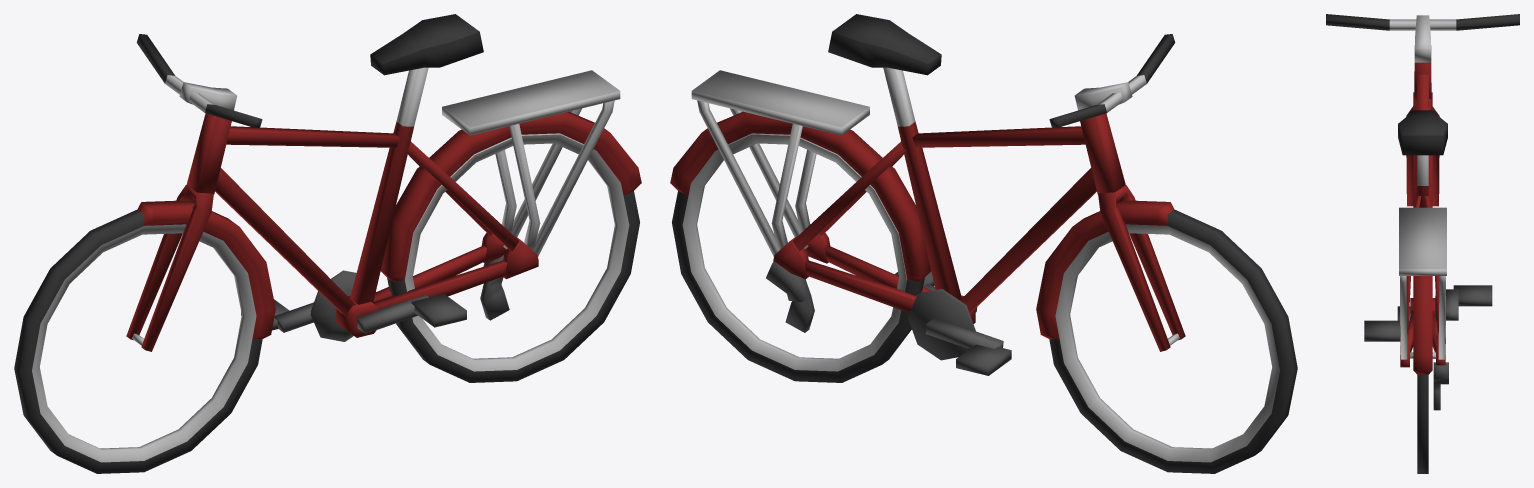
The model's file is BiciRossa.fbx.
The picture shows the model from 3 angles, left to right: view 1: azimuth 30°, elevation 25°; view 2: azimuth 150°, elevation 25°; view 3: azimuth 270°, elevation 25°; orthographic projection. The views are drawn at different scales.
Parts seen in each view (by area): view 1: bici_cestello; view 2: bici_cestello; view 3: bici_cestello.
Boxes of the visible parts, x1=… form: bici_cestello: x1=14, y1=14, x2=641, y2=473; bici_cestello: x1=670, y1=14, x2=1297, y2=473; bici_cestello: x1=1326, y1=14, x2=1519, y2=473.
Bounding box in the file's own units: 516 × 302 × 167.
